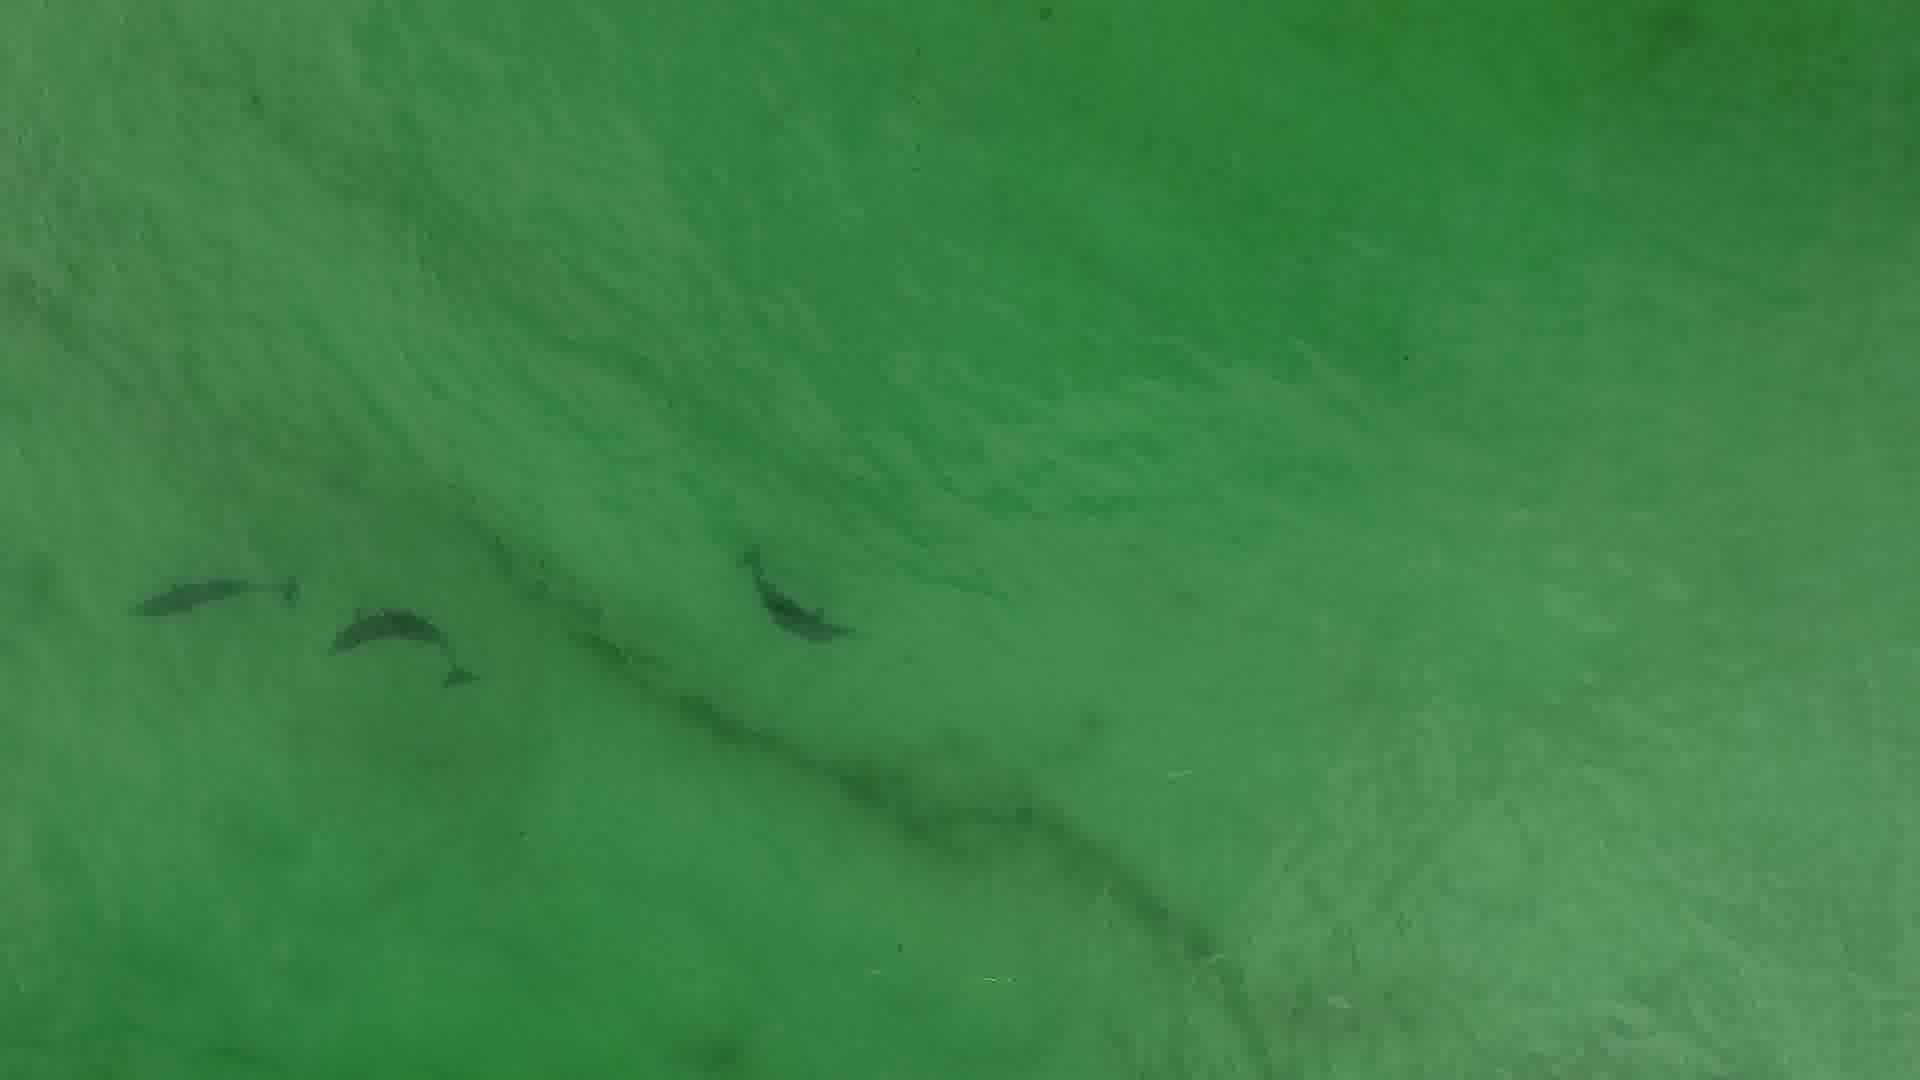dolphin: (301, 585, 500, 719), (699, 526, 851, 671), (107, 547, 320, 647)
